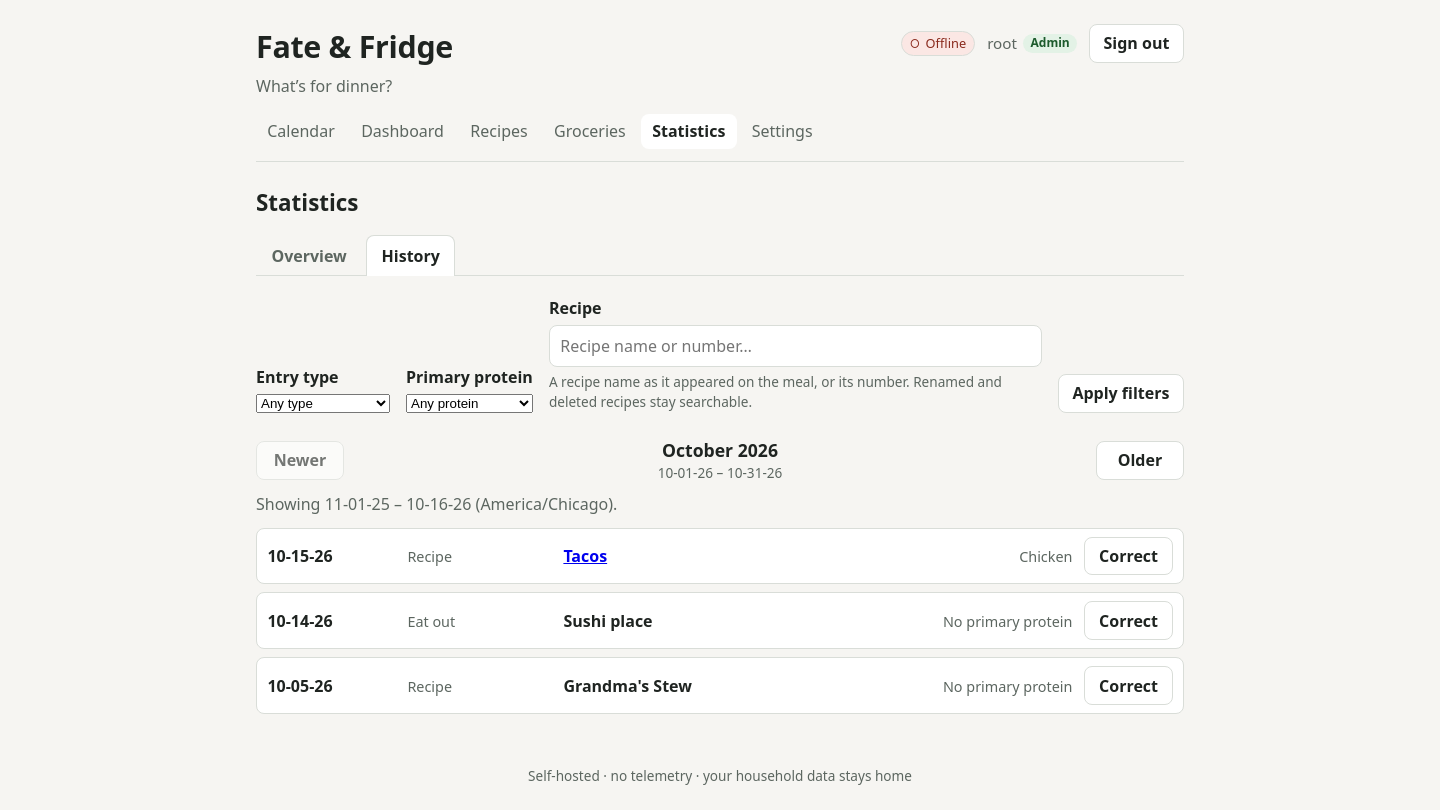
Test: meal-history browser › opens the same correction flow from an Admin row
This screenshot has width=1440, height=810.
Click the button with aria-label "Correct the entry for 10-15-26". click: coordinates (1129, 556)
box: [1084,537,1173,575]
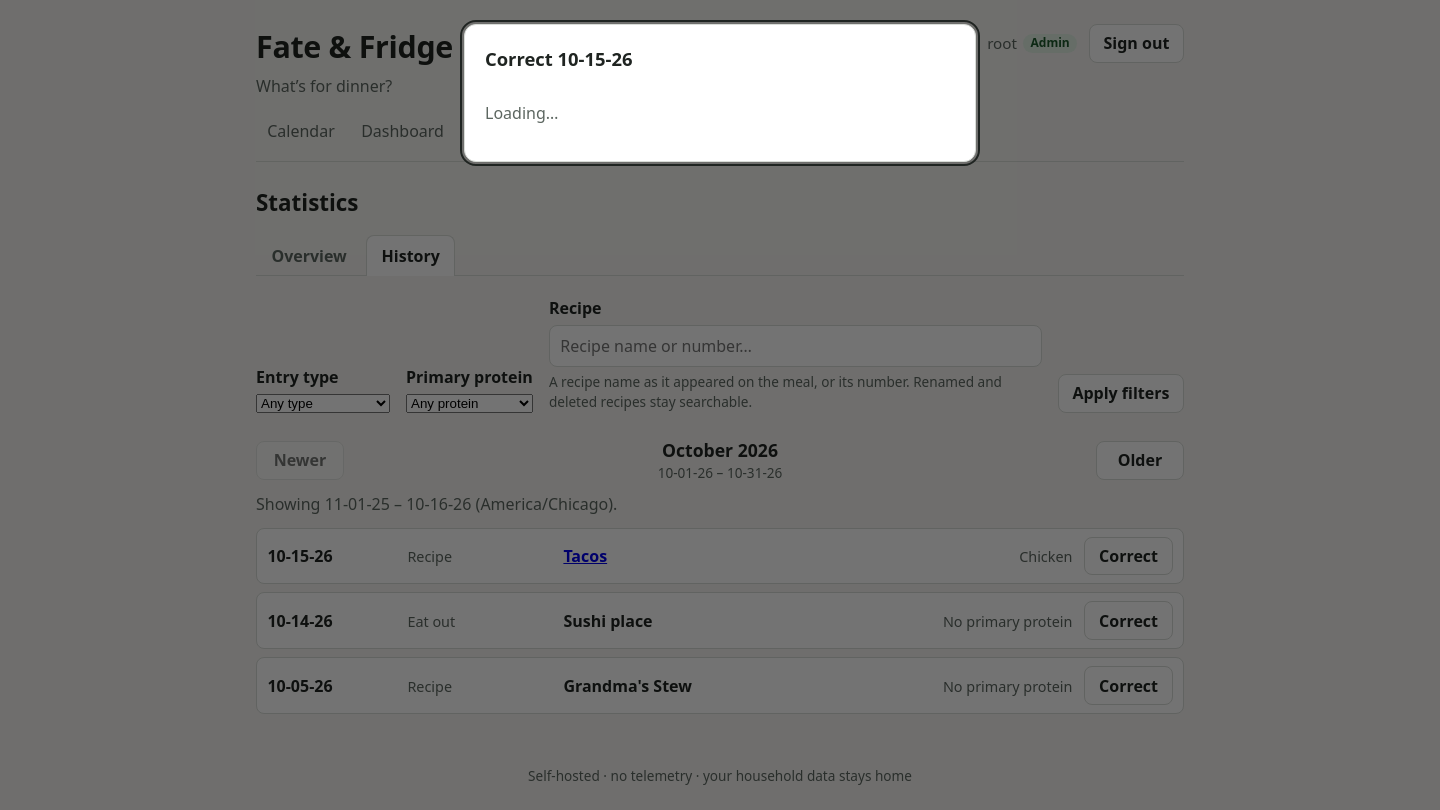
Result: the dialog "Correct 10-15-26 Loading…" is shown at [464,24,976,162]
